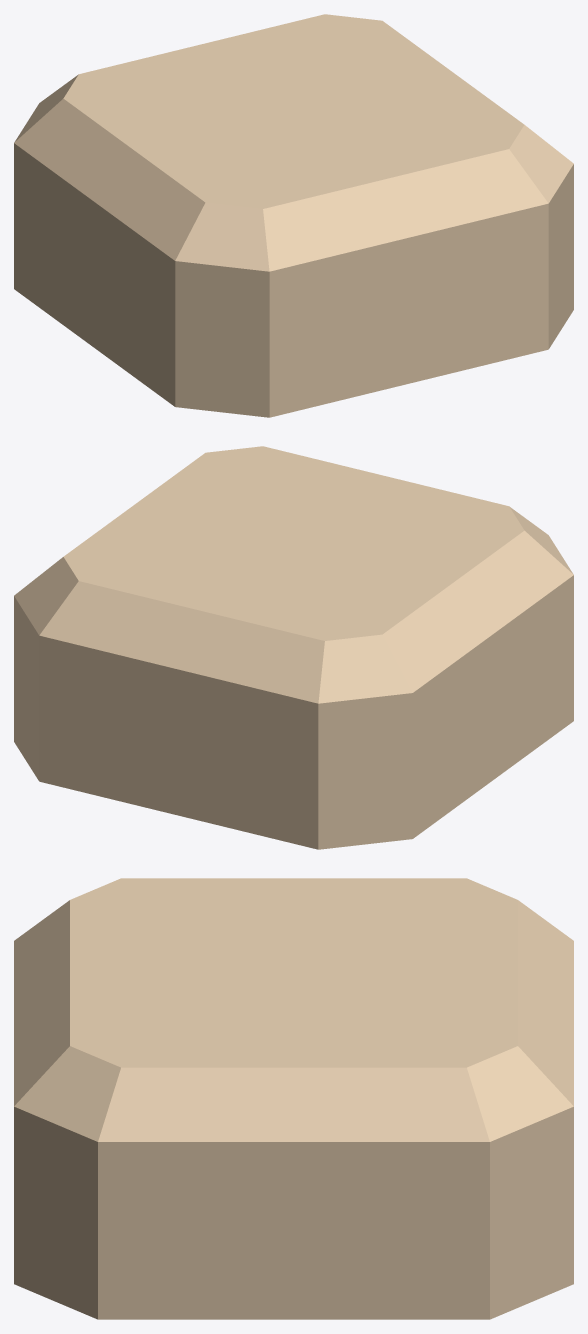
File: puzzle_pressure_plate.glb
The picture shows the model from 3 angles, top to bottom: view 1: azimuth 30°, elevation 25°; view 2: azimuth 150°, elevation 25°; view 3: azimuth 270°, elevation 25°; orthographic projection. The views are drawn at different scales.
Visible parts, largest first — view 1: object1; view 2: object1; view 3: object1.
Part boxes in pixels (x1,y1,x2,y2): object1: (14,14,573,417); object1: (14,446,573,849); object1: (14,878,573,1319).
Size of the model in its own units: 0.5 by 0.225 by 0.5.
